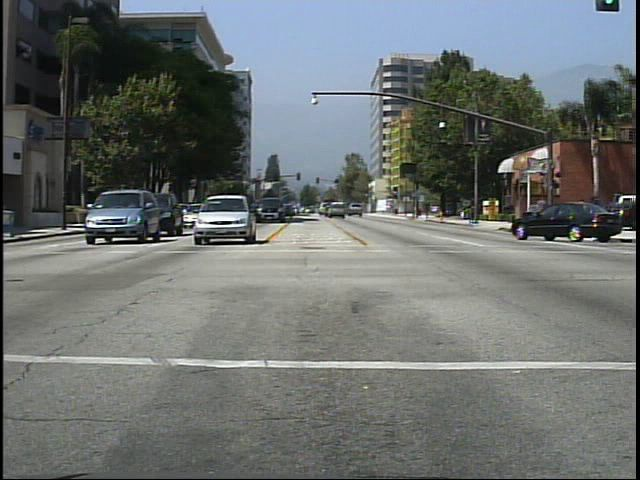person: (575, 193, 596, 237), (534, 192, 551, 237)
